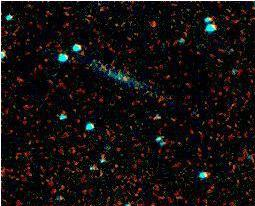star: (109, 66, 139, 96)
